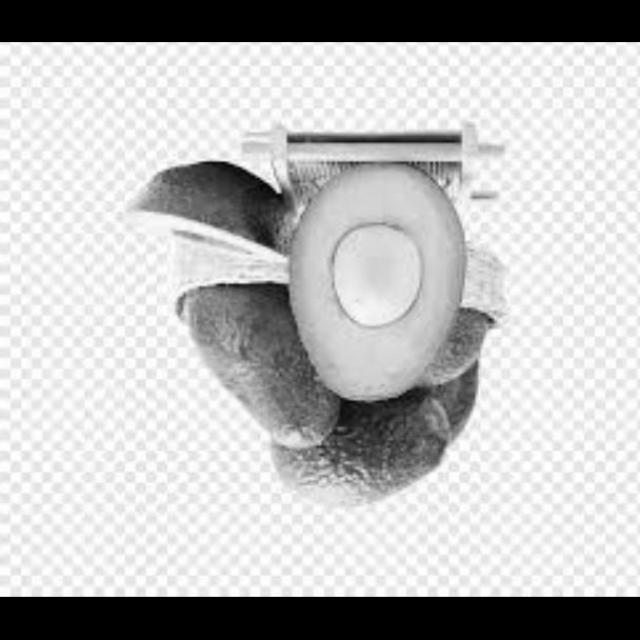avocado: (295, 158, 480, 387), (263, 395, 461, 548), (162, 296, 343, 458), (112, 138, 294, 287), (435, 296, 500, 445)
